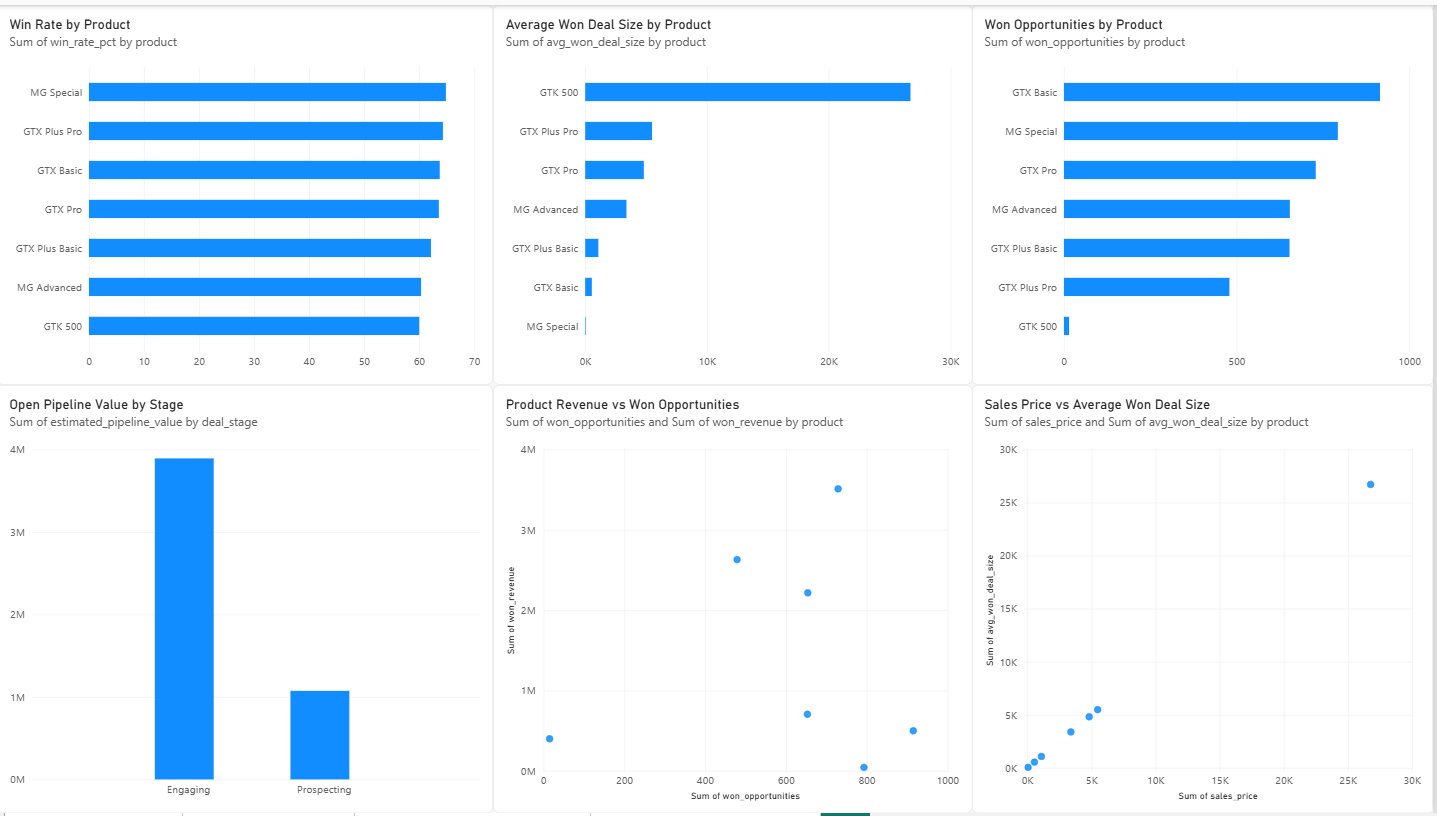

The page's visual inventory and layout, read from the dashboard file:
{"tool":"powerbi","page":{"name":"Product & Pipeline Analysis","canvas":[1920,1080],"ordinal":2},"visuals":[{"type":"clusteredBarChart","title":"Win Rate by Product","fields":{"Category":["product_performance.product"],"Y":["Sum(product_performance.win_rate_pct)"]},"box":[0,0,662.8,507.6],"z":0},{"type":"clusteredBarChart","title":"Won Opportunities by Product","fields":{"Category":["product_performance.product"],"Y":["Sum(product_performance.won_opportunities)"]},"box":[1302.9,0,617.4,507.6],"z":1},{"type":"clusteredBarChart","title":"Average Won Deal Size by Product","fields":{"Category":["product_performance.product"],"Y":["Sum(product_performance.avg_won_deal_size)"]},"box":[662.8,0,640.1,507.6],"z":2},{"type":"clusteredColumnChart","title":"Open Pipeline Value by Stage","fields":{"Category":["open_pipeline.deal_stage"],"Y":["Sum(open_pipeline.estimated_pipeline_value)"]},"box":[0,507.6,662.8,572.1],"z":3},{"type":"scatterChart","title":"Product Revenue vs Won Opportunities","fields":{"Category":["product_performance.product"],"X":["Sum(product_performance.won_opportunities)"],"Y":["Sum(product_performance.won_revenue)"]},"box":[662.8,507.6,640.1,572.1],"z":4},{"type":"scatterChart","title":"Sales Price vs Average Won Deal Size","fields":{"Category":["product_performance.product"],"X":["Sum(product_performance.sales_price)"],"Y":["Sum(product_performance.avg_won_deal_size)"]},"box":[1303,508,617,572],"z":5}]}

Visuals, with their boxes in screenshot pixels (x1, y1, x2, y2), scaled from the page's 1920x1080 canvas onto the 1437x816 screenshot:
"Win Rate by Product" clusteredBarChart: bbox=[0, 0, 496, 384]
"Won Opportunities by Product" clusteredBarChart: bbox=[975, 0, 1436, 384]
"Average Won Deal Size by Product" clusteredBarChart: bbox=[496, 0, 975, 384]
"Open Pipeline Value by Stage" clusteredColumnChart: bbox=[0, 384, 496, 815]
"Product Revenue vs Won Opportunities" scatterChart: bbox=[496, 384, 975, 815]
"Sales Price vs Average Won Deal Size" scatterChart: bbox=[975, 384, 1436, 815]
